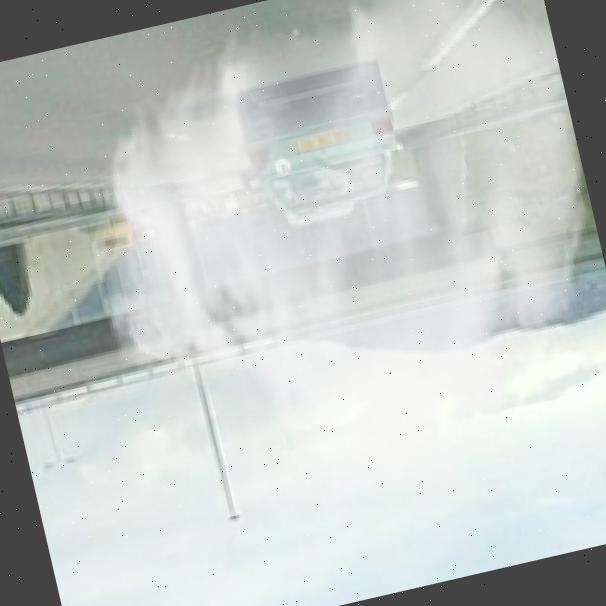smoke: (39, 0, 606, 577)
